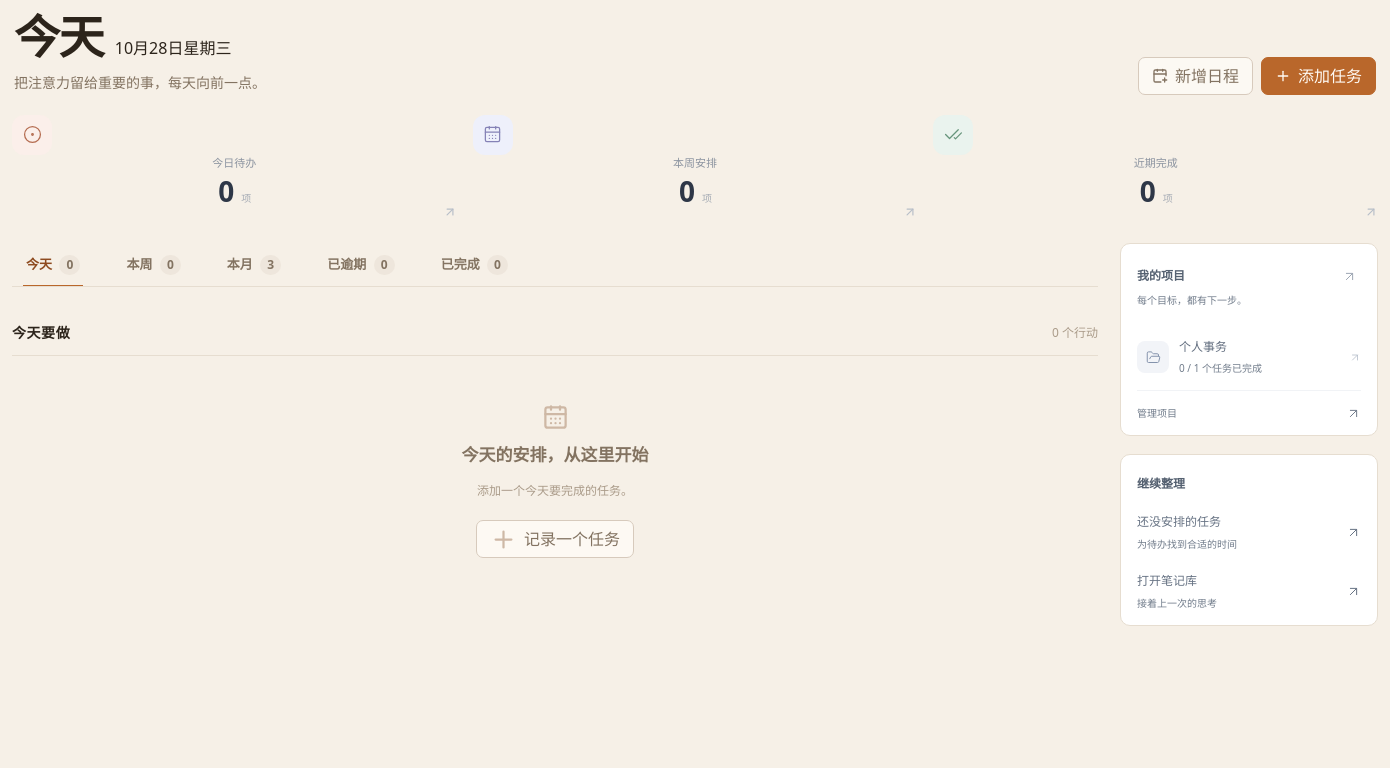
it: Dashboard v2 today projection › groups different execution times of the same task into an expandable collection
The image size is (1390, 768).
Click the tab "本月 3" at (254,265), box [213,243,295,286]
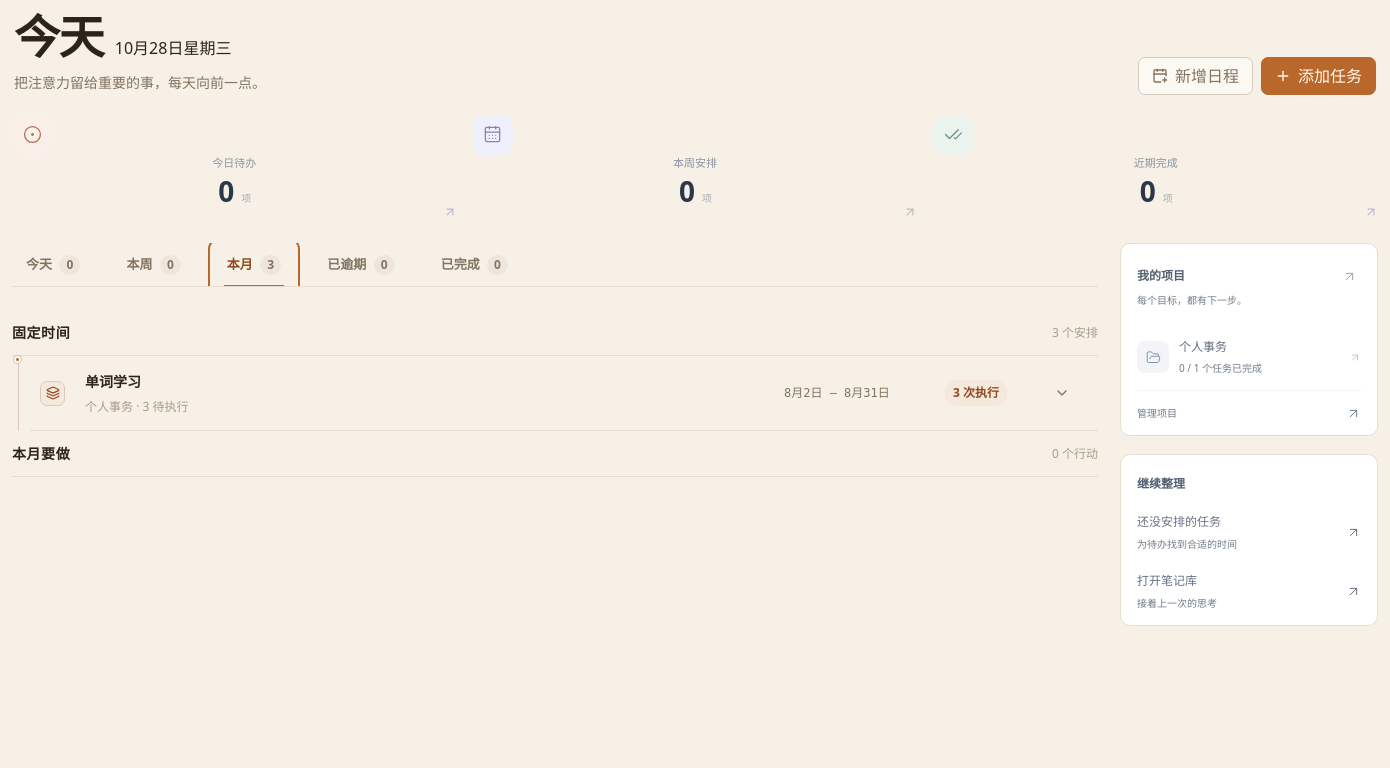
Expected: the text "单词学习 · 8月2日" is not shown
Click the button with aria-label "展开单词学习，3 次执行" at (113,381), box [30,356,1098,430]
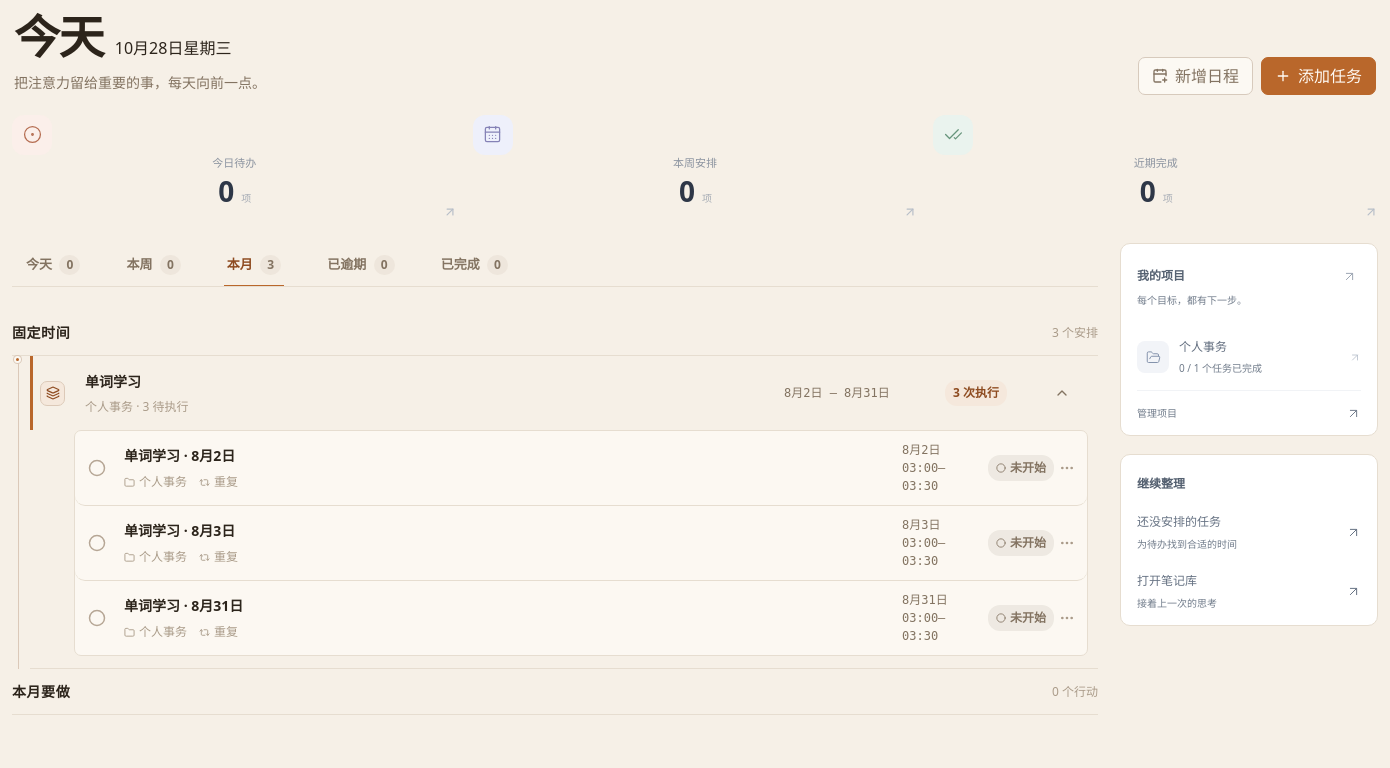
Expected: the button with aria-label "收起单词学习，3 次执行" is expanded, [30,356,1098,430]
Expected: the text "单词学习 · 8月2日" is shown, [124,446,235,465]
Expected: the text "单词学习 · 8月31日" is shown, [124,596,243,615]
Click the text "单词学习 · 8月3日" at (180,530), box [124,521,235,540]
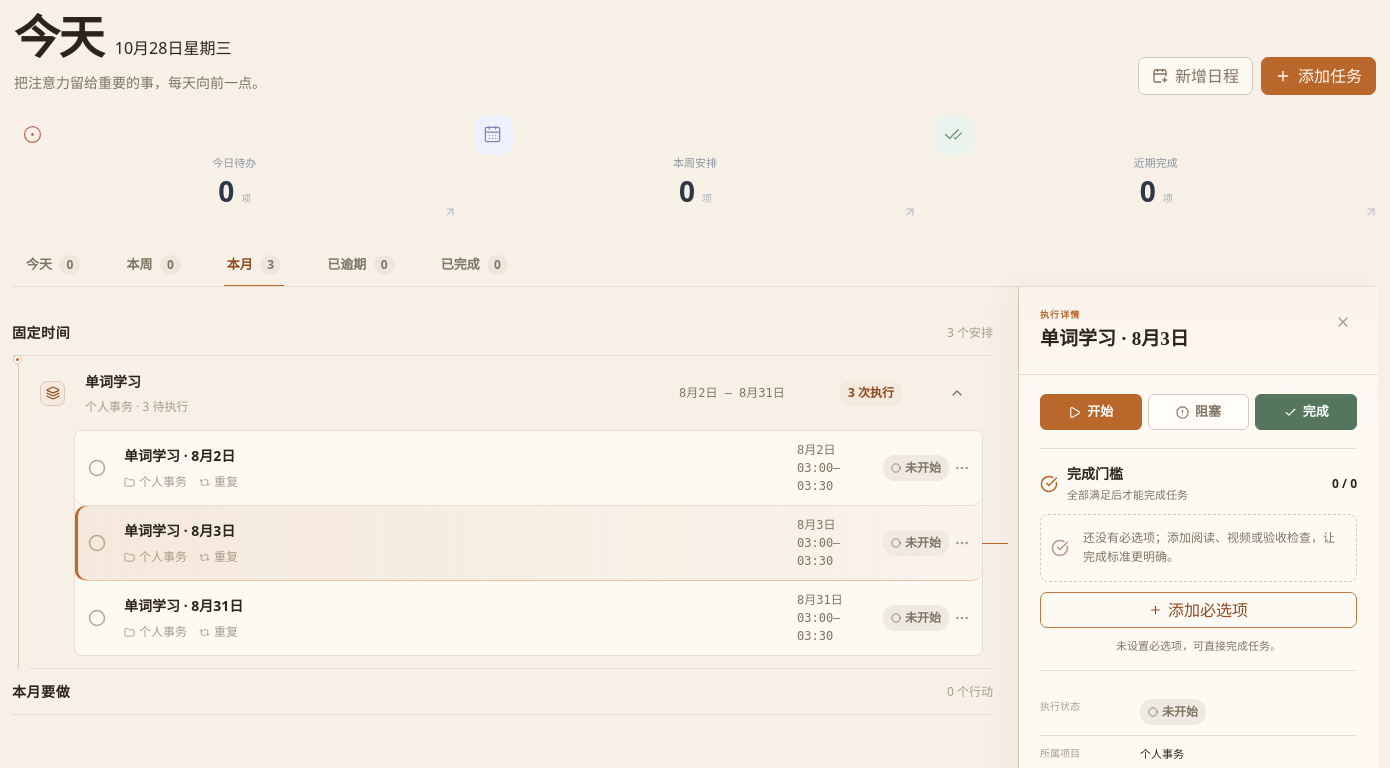
Click the button with aria-label "收起单词学习，3 次执行" at (113,381), box [30,356,993,430]
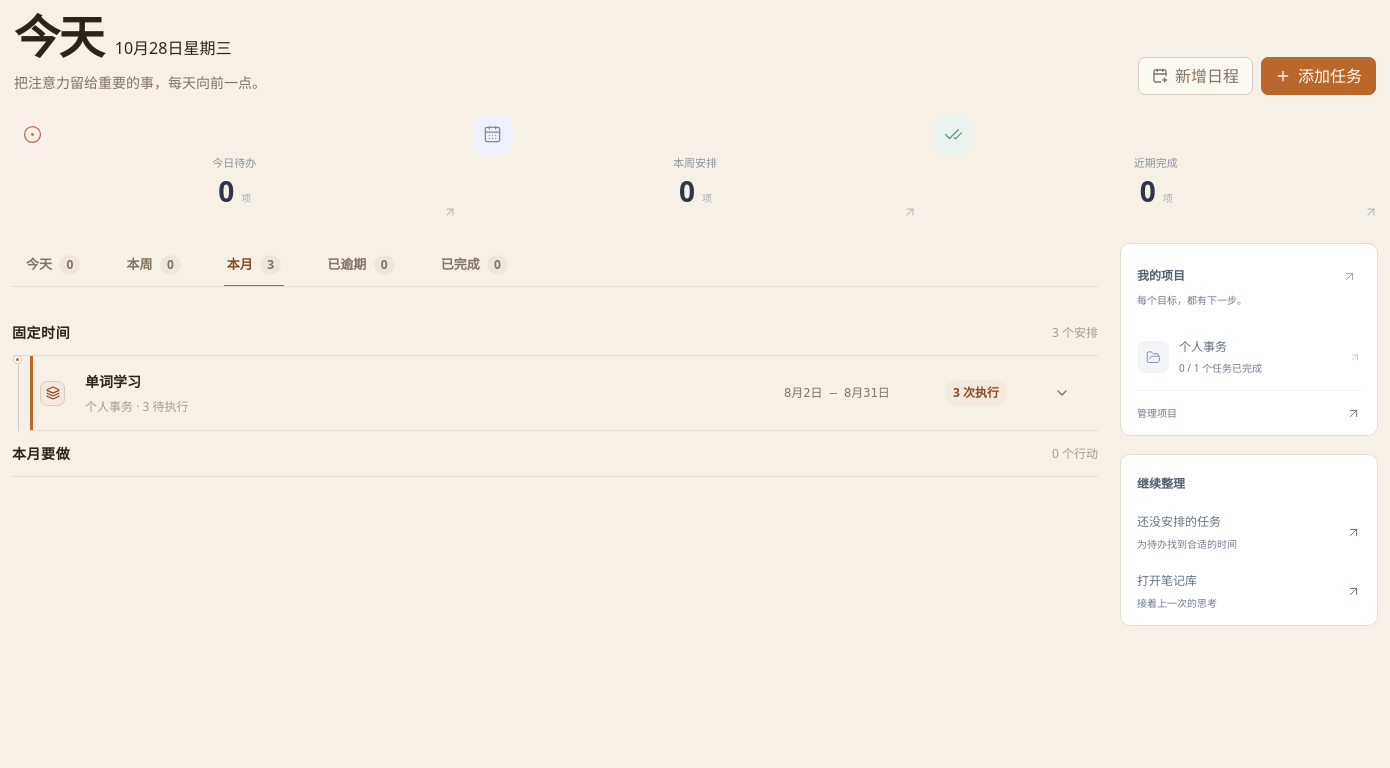
Expected: the list "单词学习执行实例" is gone
